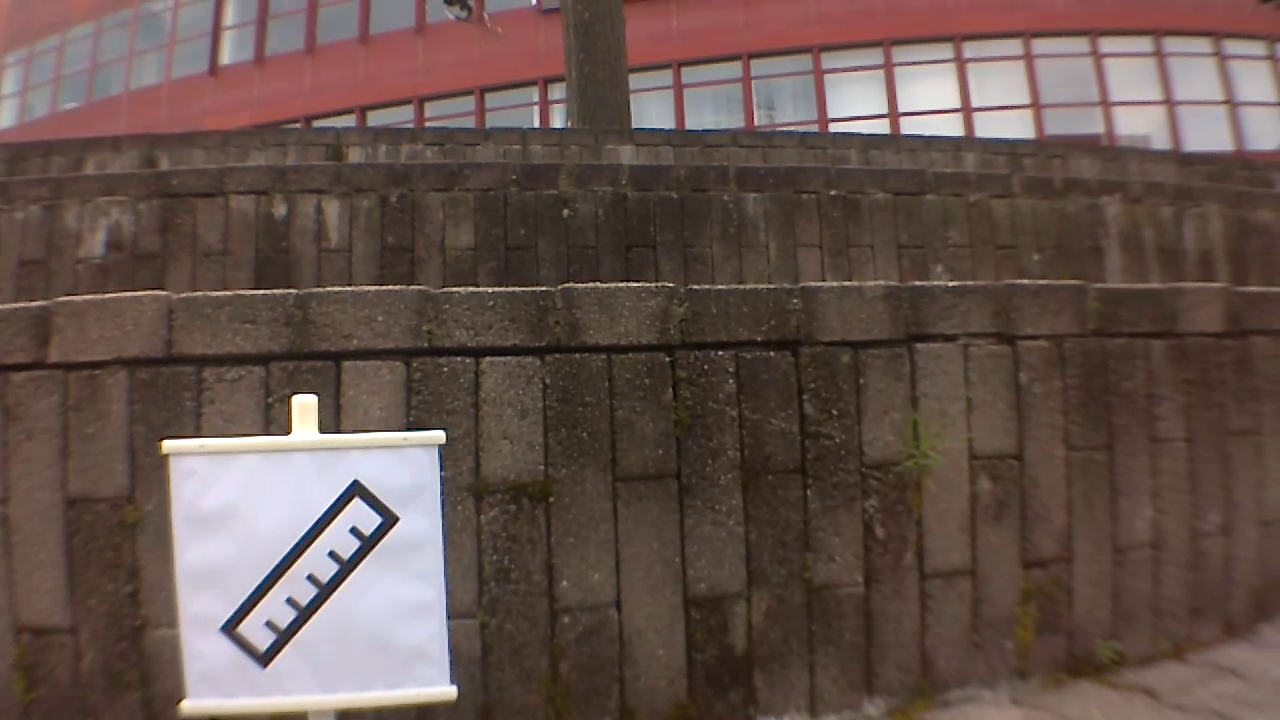ruler: (213, 477, 406, 674)
